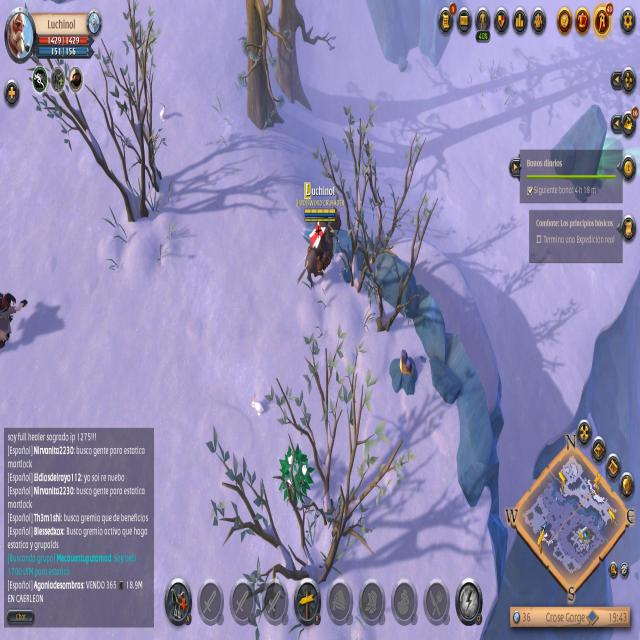piedra_cobre: (390, 350, 416, 396)
